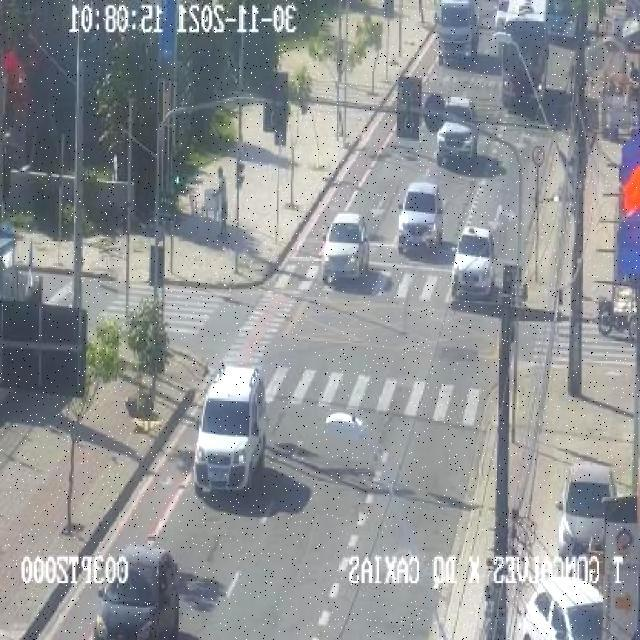Car: (194, 364, 268, 493), (96, 544, 182, 639), (500, 0, 554, 106), (517, 575, 605, 639), (558, 464, 617, 558), (453, 222, 507, 296), (320, 212, 370, 282), (398, 182, 444, 252), (435, 0, 481, 68), (436, 98, 479, 166), (543, 1, 578, 43)
